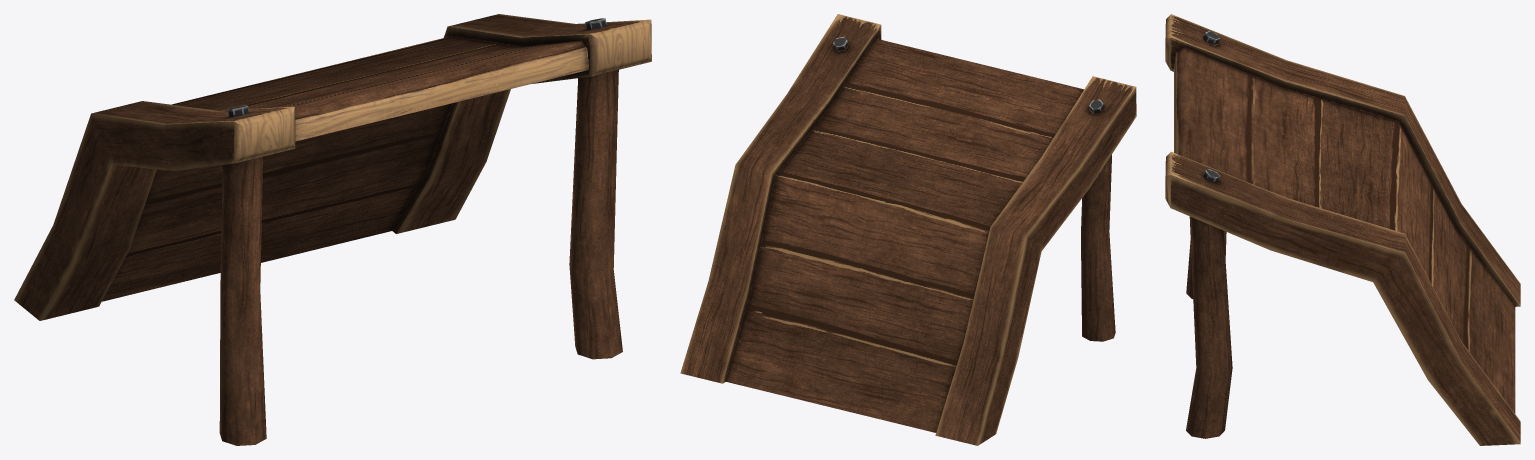
The model's file is WoodCover.fbx.
3 renders of one model, left to right at view 1: azimuth 30°, elevation 25°; view 2: azimuth 150°, elevation 25°; view 3: azimuth 270°, elevation 25°, orthographic. The views are drawn at different scales.
Parts seen in each view (by area): view 1: WoodCover; view 2: WoodCover; view 3: WoodCover.
Boxes of the visible parts, <box> form: WoodCover: <box>14,14,651,445</box>; WoodCover: <box>680,14,1136,445</box>; WoodCover: <box>1165,14,1520,445</box>.
Size of the model in its own units: 191 by 150 by 178.
